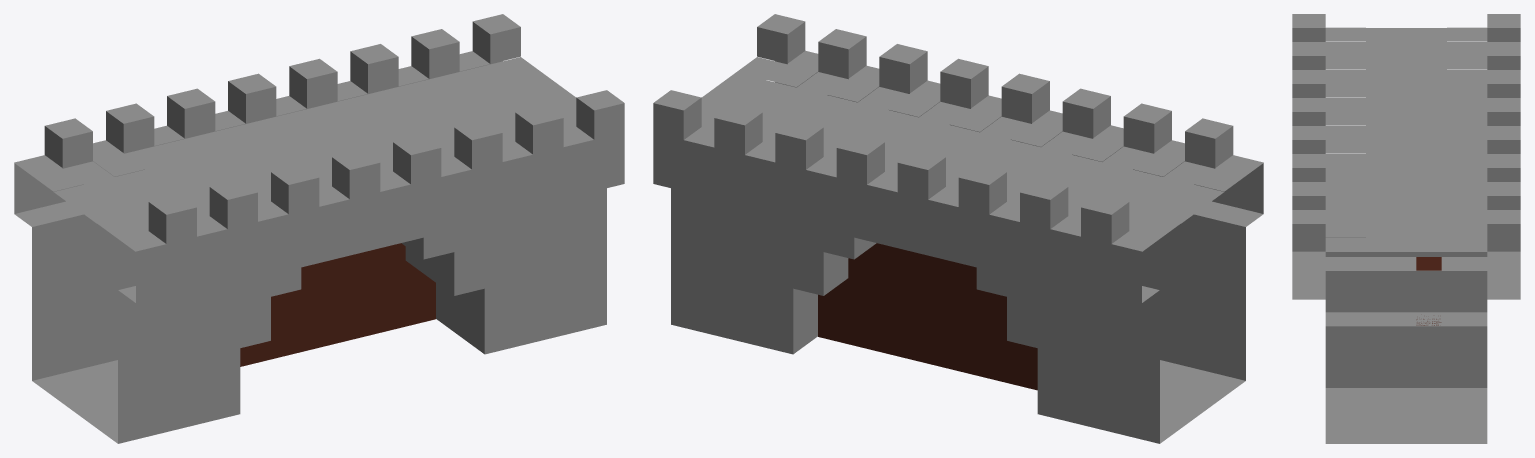
Rendered from door_intact.FBX.
The picture shows the model from 3 angles, left to right: view 1: azimuth 30°, elevation 25°; view 2: azimuth 150°, elevation 25°; view 3: azimuth 270°, elevation 25°; orthographic projection. The views are drawn at different scales.
Visible parts, largest first — view 1: entrée principale ouverte, porte murale; view 2: entrée principale ouverte, porte murale; view 3: entrée principale ouverte, porte murale.
Boxes of the visible parts, x1,y1,x2,y2 form: entrée principale ouverte: (14, 14, 624, 443); porte murale: (240, 243, 435, 366); entrée principale ouverte: (653, 14, 1263, 443); porte murale: (818, 243, 1037, 390); entrée principale ouverte: (1292, 14, 1520, 443); porte murale: (1416, 257, 1441, 325).
Size of the model in its own units: 140 by 64.27 by 60.4.
